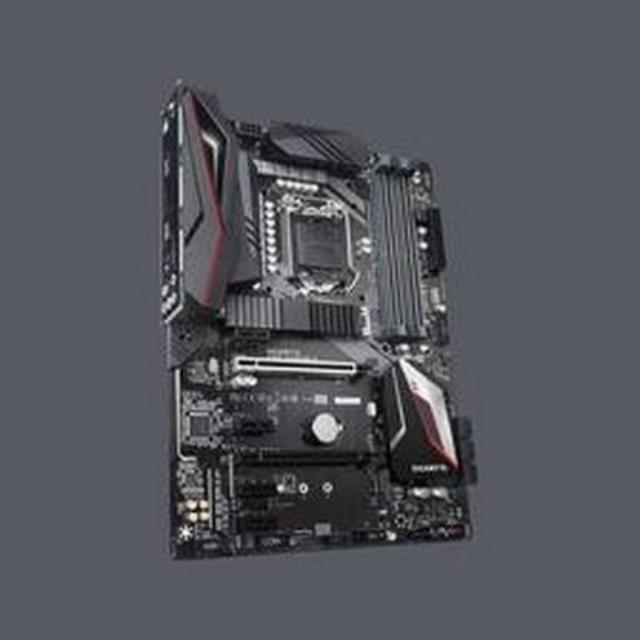Mainboard: (151, 74, 489, 566)
